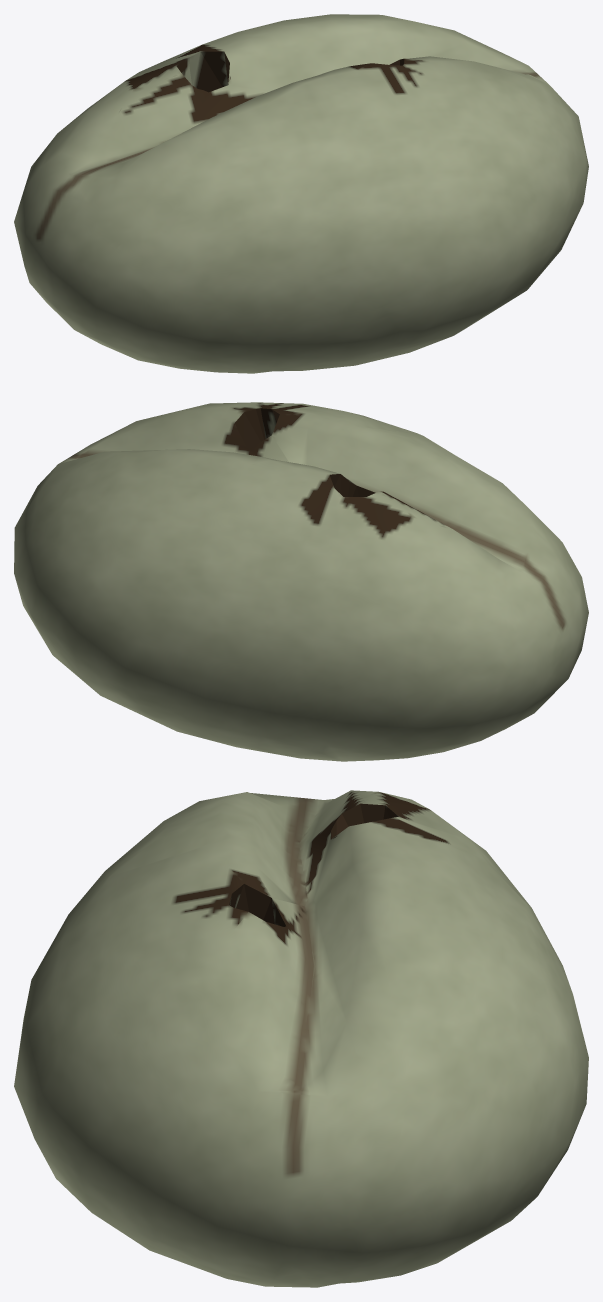
The model's file is bean_insect_lod.glb.
3 views of the same model, one above another, from view 1: azimuth 30°, elevation 25°; view 2: azimuth 150°, elevation 25°; view 3: azimuth 270°, elevation 25° (orthographic). The views are drawn at different scales.
Parts seen in each view (by area): view 1: bean_insect; view 2: bean_insect; view 3: bean_insect.
Boxes of the visible parts, x1,y1,x2,y2 form: bean_insect: (14, 14, 588, 373); bean_insect: (14, 402, 588, 761); bean_insect: (14, 790, 588, 1287).
Bounding box in the file's own units: 0.0098 × 0.0051 × 0.0071.
1 material, 1 textured.
